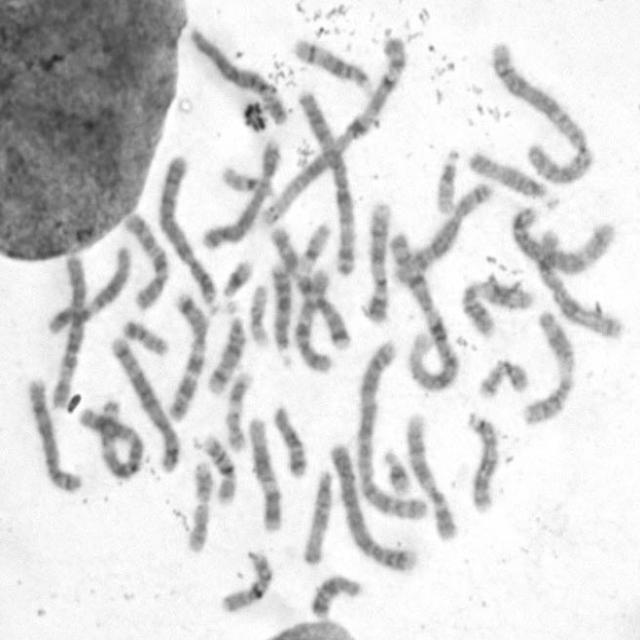A1: (257, 28, 409, 227), (385, 226, 460, 392)
A2: (486, 36, 596, 186), (351, 332, 429, 524)
A3: (293, 83, 358, 277), (74, 398, 147, 482)
B4: (325, 436, 418, 574), (154, 148, 222, 313)
B5: (106, 329, 183, 474), (506, 202, 616, 275)
C10: (120, 205, 174, 312), (288, 264, 334, 374)
C11: (517, 304, 578, 428), (457, 271, 533, 338)
C12: (42, 238, 135, 336), (244, 411, 286, 534)
C6: (186, 20, 291, 126), (46, 251, 90, 410)
C7: (265, 219, 353, 352), (163, 287, 211, 422)
C8: (387, 176, 495, 285), (22, 372, 84, 494)
C9: (402, 406, 461, 543), (361, 195, 394, 325)
D13: (463, 408, 501, 515), (266, 260, 294, 355)
D14: (288, 31, 374, 94), (203, 307, 248, 396)
D15: (464, 146, 561, 208), (298, 462, 336, 567)
E16: (216, 544, 275, 615), (198, 429, 238, 505)
E17: (182, 455, 215, 555), (220, 366, 255, 454)
E18: (268, 400, 310, 480), (306, 569, 364, 619)
F19: (292, 216, 334, 275), (245, 278, 272, 348)
F20: (473, 353, 532, 400), (118, 313, 171, 357)
G21: (378, 442, 417, 498), (217, 253, 256, 300)
G22: (431, 141, 463, 216), (216, 160, 275, 196)
X: (534, 225, 626, 342)
